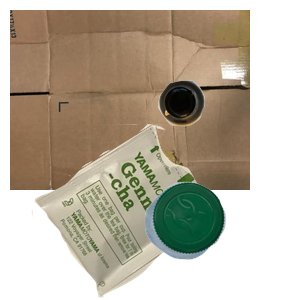cardboard: (10, 10, 250, 190)
glass: (156, 78, 300, 197)
plastic: (142, 179, 300, 300)
trash: (29, 124, 238, 300)
